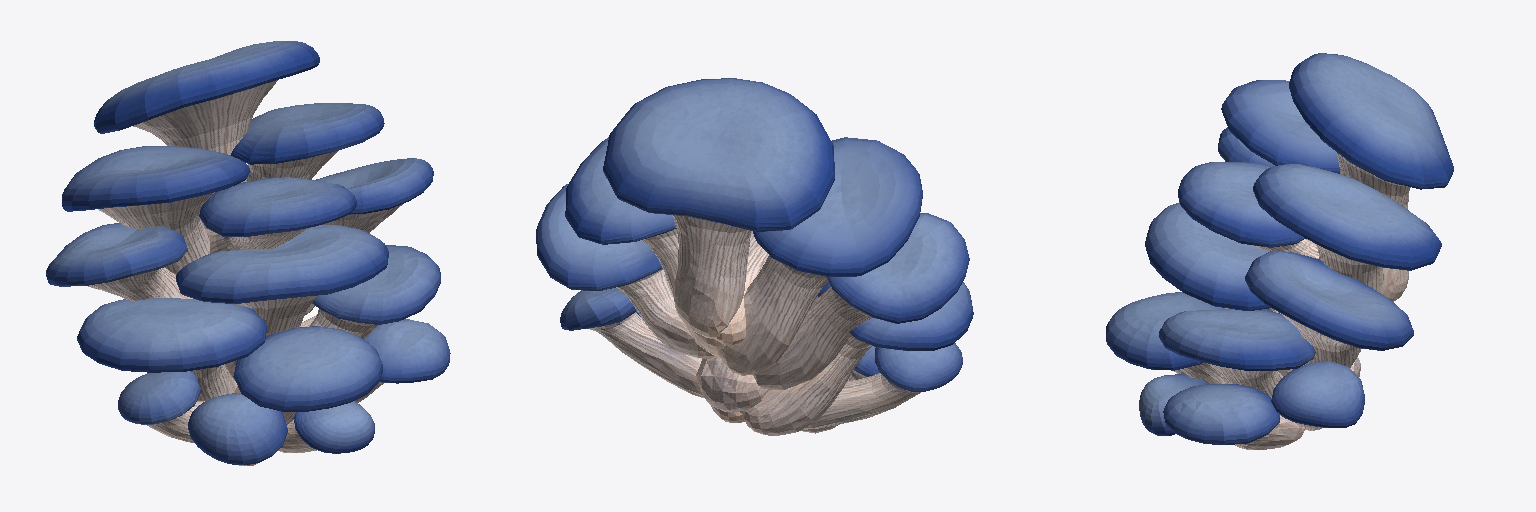
The picture shows the model from 3 angles: view 1: azimuth 30°, elevation 25°; view 2: azimuth 150°, elevation 25°; view 3: azimuth 270°, elevation 25°; orthographic projection.
Visible parts, largest first — view 1: obj1; view 2: obj1; view 3: obj1.
Boxes of the visible parts, x1,y1,x2,y2 form: obj1: [46, 41, 450, 465]; obj1: [536, 78, 973, 435]; obj1: [1106, 53, 1453, 449].
Bounding box in the file's own units: 0.3226 × 0.2895 × 0.2489.
Materials: 1 (1 with a texture image).